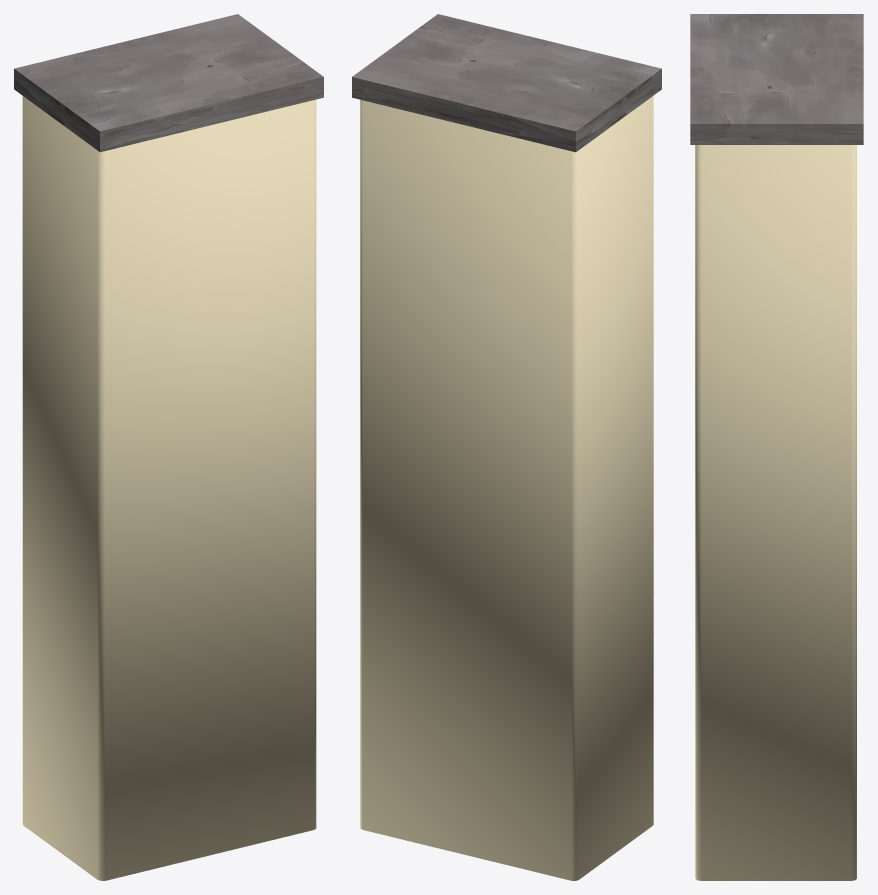
The model's file is Columna.fbx.
3 renders of one model, left to right at view 1: azimuth 30°, elevation 25°; view 2: azimuth 150°, elevation 25°; view 3: azimuth 270°, elevation 25°, orthographic.
Visible parts, largest first — view 1: Columna, Baldosa.002; view 2: Columna, Baldosa.002; view 3: Columna, Baldosa.002.
Boxes of the visible parts, left/top/right/bottom form: Columna: left=22, top=96, right=316, bottom=880; Baldosa.002: left=14, top=14, right=323, bottom=152; Columna: left=360, top=96, right=653, bottom=880; Baldosa.002: left=352, top=14, right=661, bottom=152; Columna: left=695, top=145, right=856, bottom=880; Baldosa.002: left=690, top=14, right=863, bottom=144.
Bounding box in the file's own units: 160 × 513 × 106.
